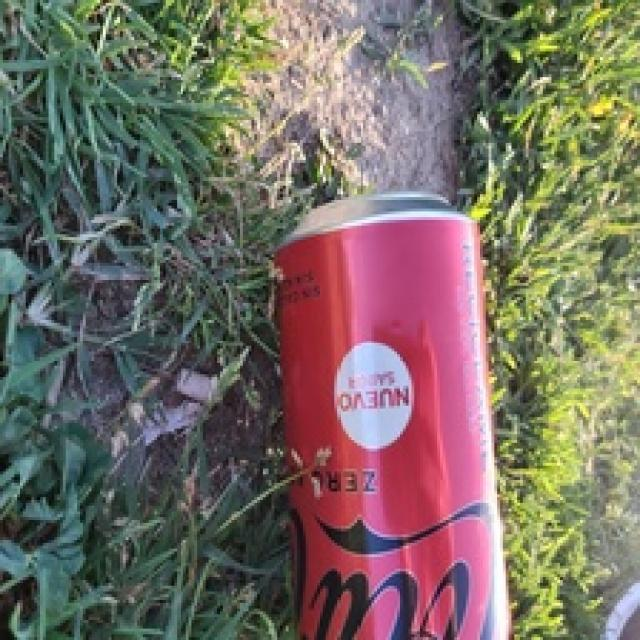recyclable: (272, 195, 512, 640)
